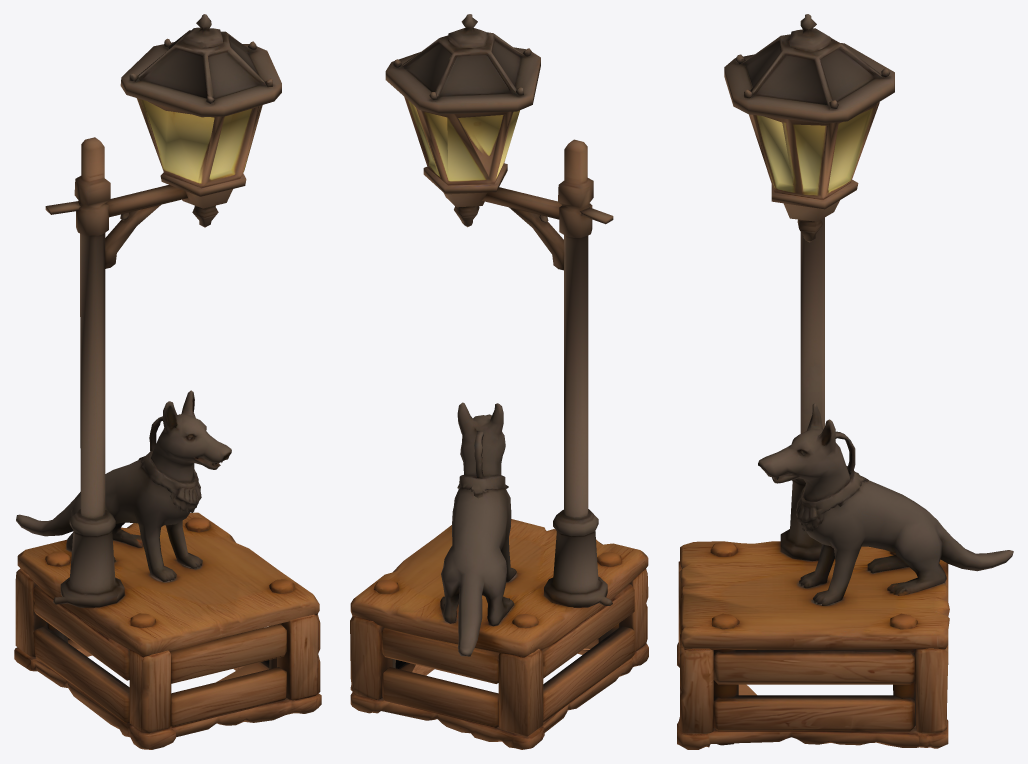
Rendered from street_lantern.glb.
The picture shows the model from 3 angles, left to right: view 1: azimuth 30°, elevation 25°; view 2: azimuth 150°, elevation 25°; view 3: azimuth 270°, elevation 25°; orthographic projection. The views are drawn at different scales.
Parts seen in each view (by area): view 1: tripo_node_3084acec-41b4-4a54-8d25-3b297dee7152; view 2: tripo_node_3084acec-41b4-4a54-8d25-3b297dee7152; view 3: tripo_node_3084acec-41b4-4a54-8d25-3b297dee7152.
Part boxes in pixels (x1=…): tripo_node_3084acec-41b4-4a54-8d25-3b297dee7152: x1=14, y1=14, x2=321, y2=749; tripo_node_3084acec-41b4-4a54-8d25-3b297dee7152: x1=350, y1=14, x2=648, y2=749; tripo_node_3084acec-41b4-4a54-8d25-3b297dee7152: x1=677, y1=14, x2=1013, y2=749.
Bounding box in the file's own units: 0.8313 × 2.4 × 1.04.
1 material, 1 textured.
